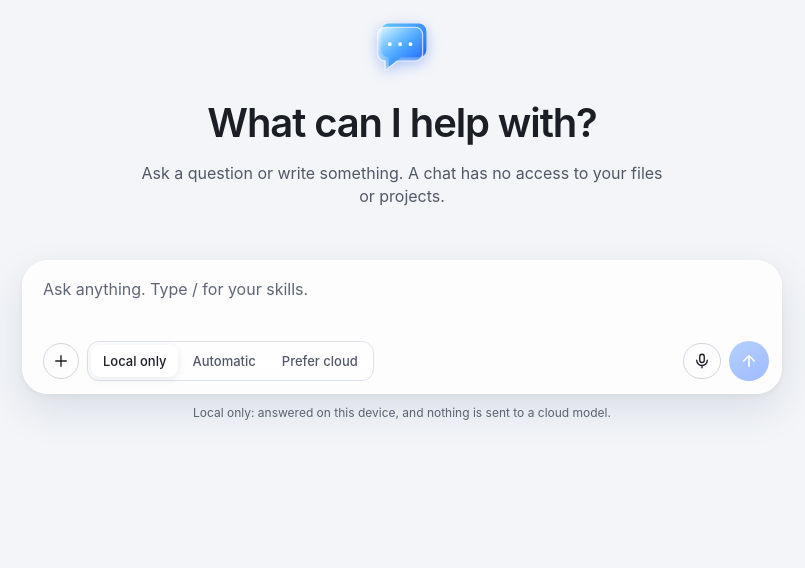
Test case: ChatView › keeps the picked files when a message fails to start
Click the button named "Attach files".
click(61, 361)  # box [43,343,79,379]
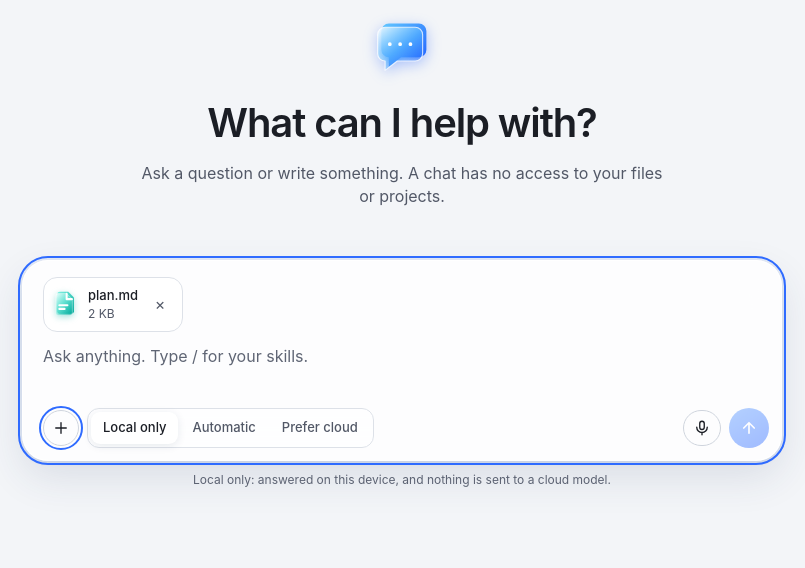
Expected: the list named "Attached files" is shown, [43,277,183,332]
Type "Summarize it." into the text box named "Message".
click(406, 370); type("Summarize it.")  # box [43,344,769,396]
Then press Enter
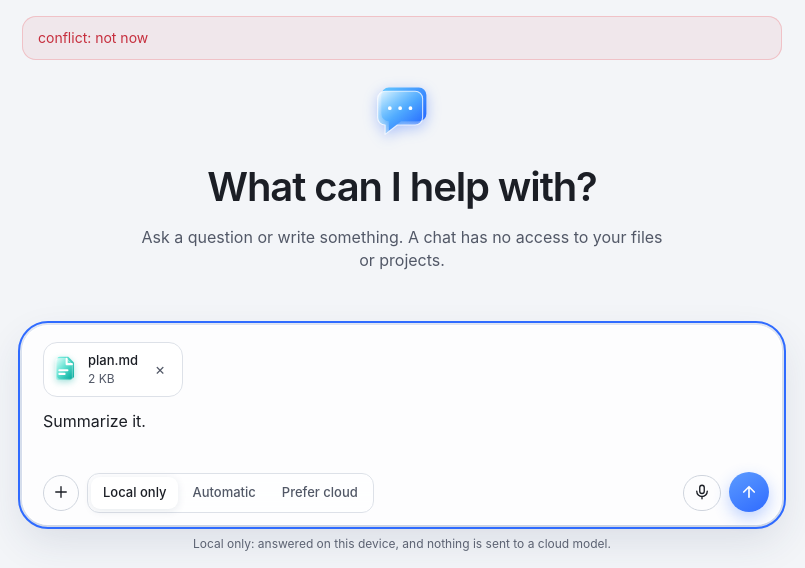
Expected: the list named "Attached files" shows "plan.md", [88,352,138,368]
Expected: the message reads "conflict: not now", [38,29,148,46]
